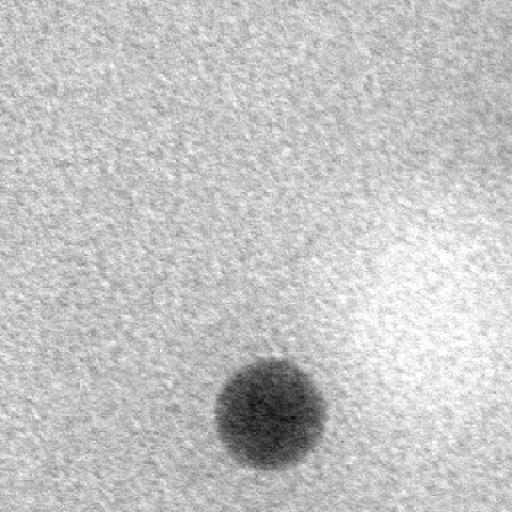Nanoparticles: (210, 354, 331, 470)
